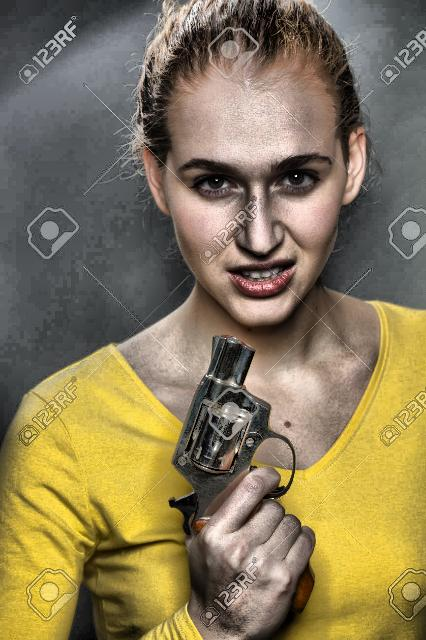pistol: (170, 334, 294, 538)
